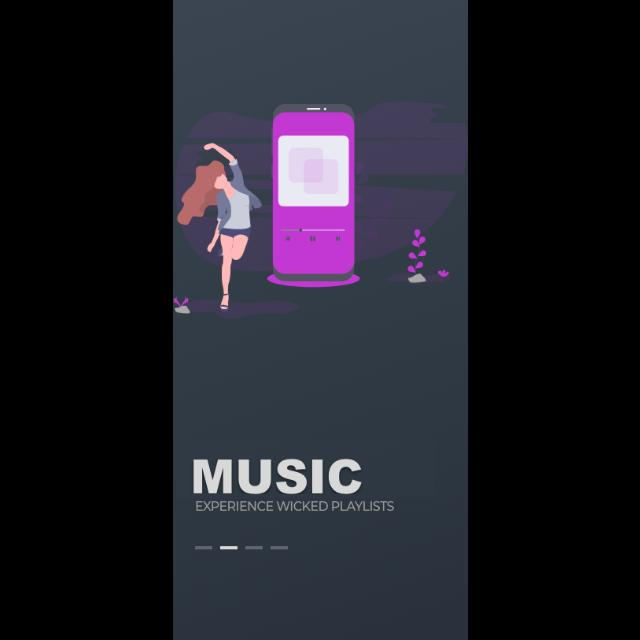image: (173, 102, 467, 320)
pageindicator: (195, 546, 288, 550)
text: (194, 459, 362, 495), (196, 501, 394, 512)
